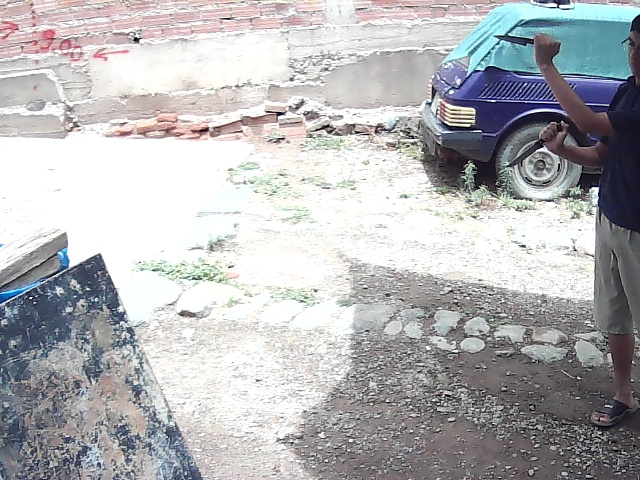cuchillo: (505, 133, 552, 169), (490, 28, 539, 51)
